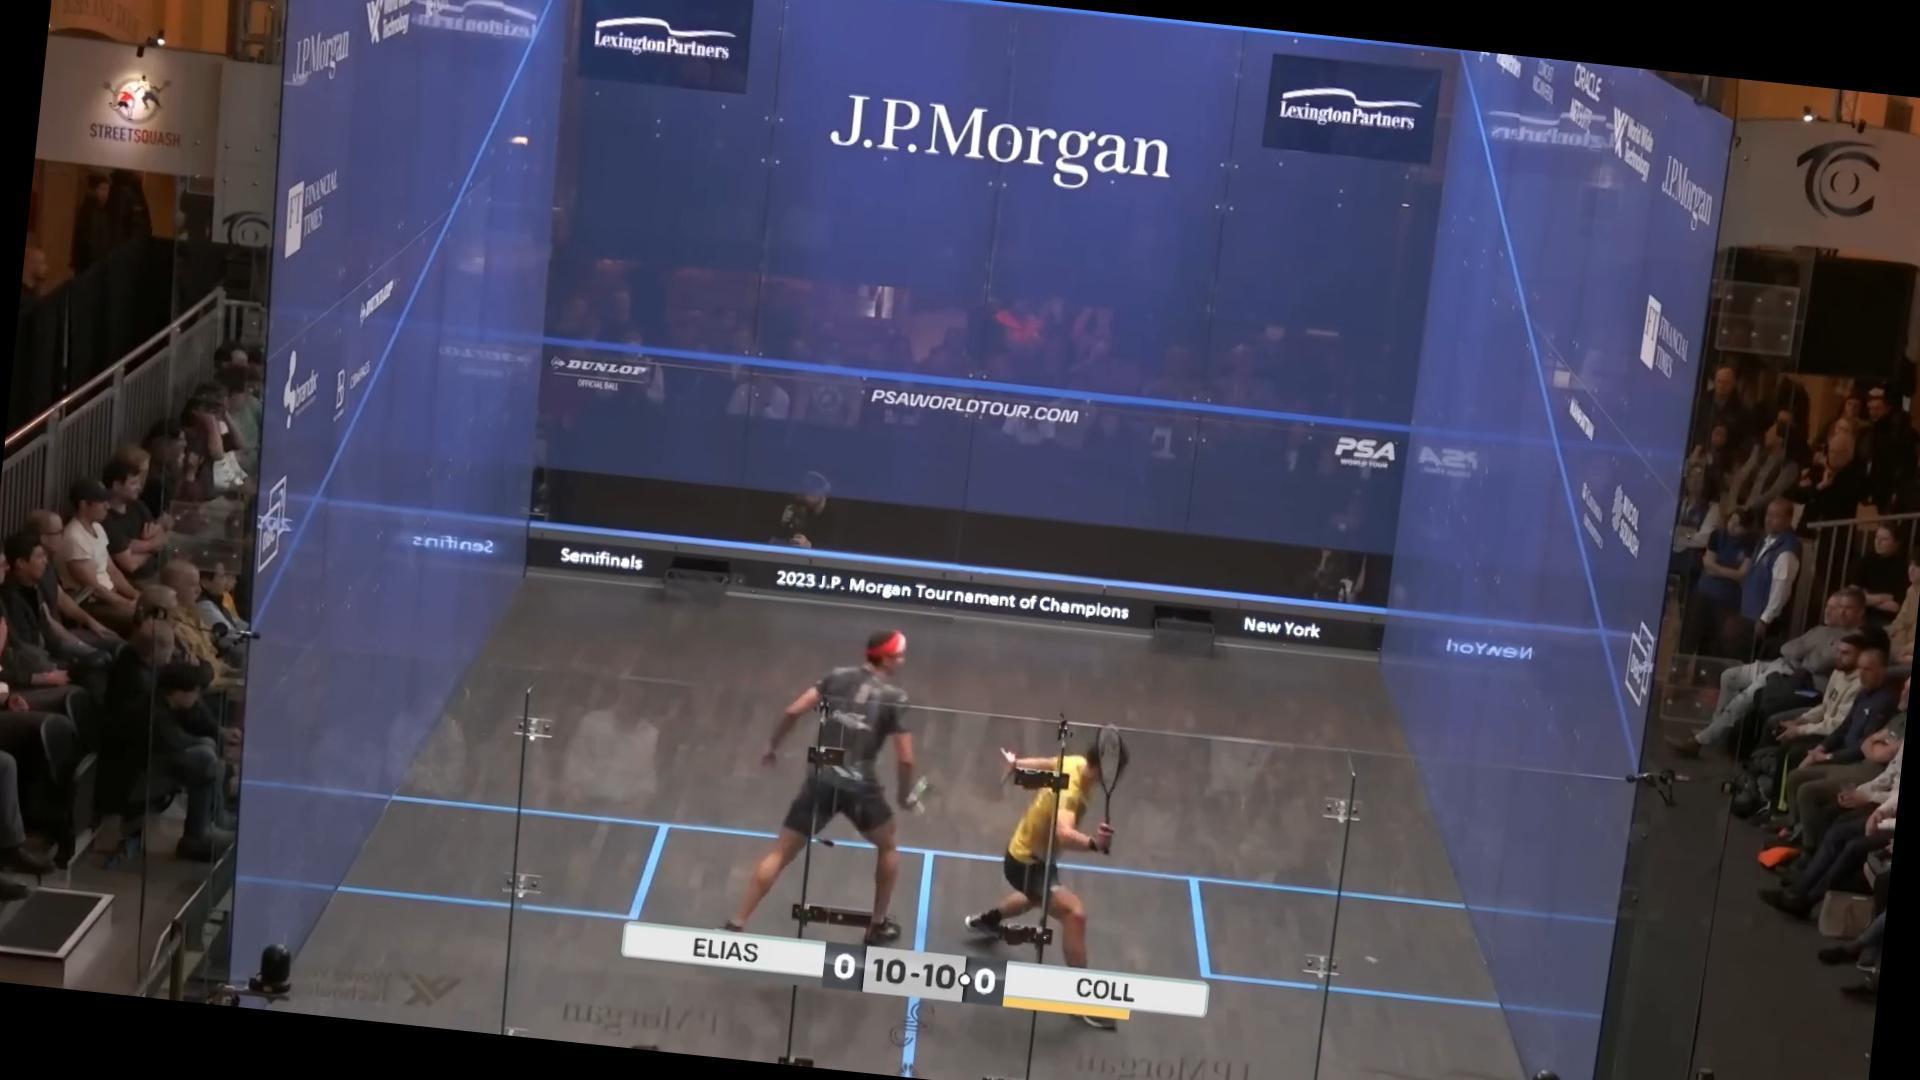Racket: (1077, 723, 1146, 848)
